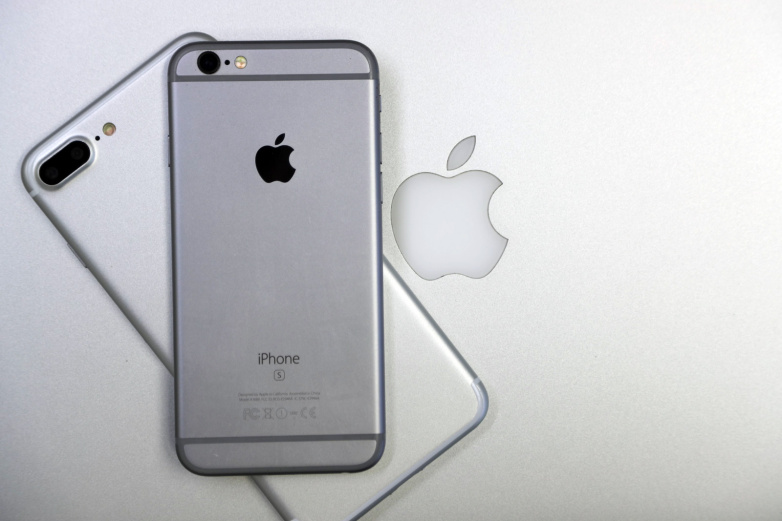apple: (242, 123, 307, 190)
